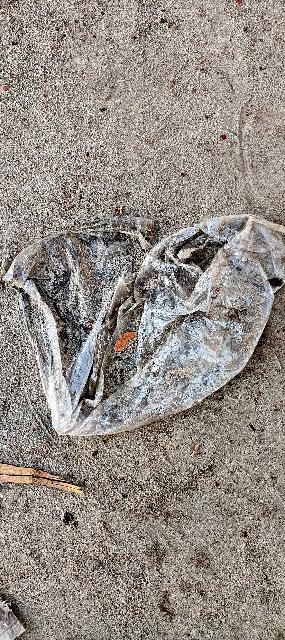polythene: (0, 196, 285, 440)
